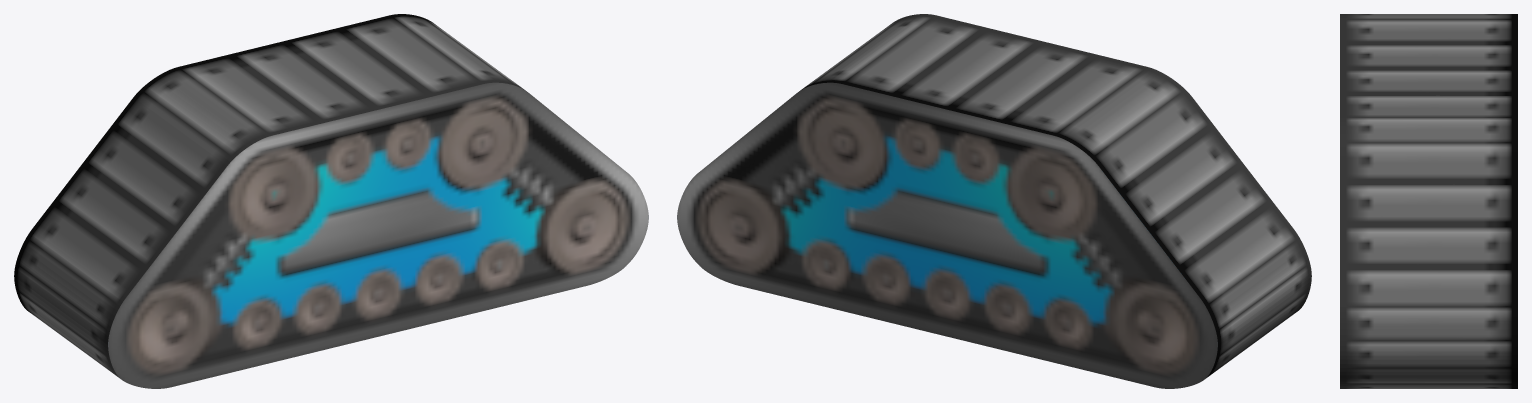
The model's file is roller3.obj.
3 views of the same model, side by side, from view 1: azimuth 30°, elevation 25°; view 2: azimuth 150°, elevation 25°; view 3: azimuth 270°, elevation 25° (orthographic). The views are drawn at different scales.
Parts seen in each view (by area): view 1: ColobotMesh_1.001_ColobotMesh_.001; view 2: ColobotMesh_1.001_ColobotMesh_.001; view 3: ColobotMesh_1.001_ColobotMesh_.001.
Boxes of the visible parts, <box> form: ColobotMesh_1.001_ColobotMesh_.001: <box>14,14,648,388</box>; ColobotMesh_1.001_ColobotMesh_.001: <box>677,14,1311,388</box>; ColobotMesh_1.001_ColobotMesh_.001: <box>1340,14,1517,388</box>.
Size of the model in its own units: 9.97 by 4 by 3.
